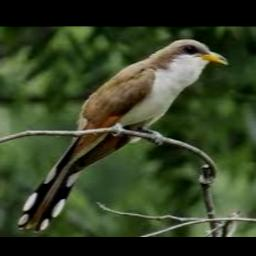Cuckoo: (17, 40, 226, 232)
